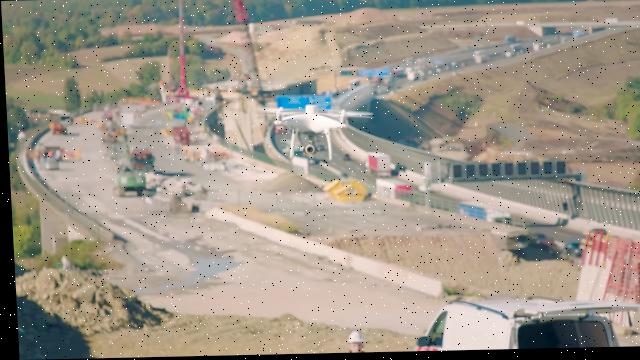drone: (252, 104, 375, 160)
